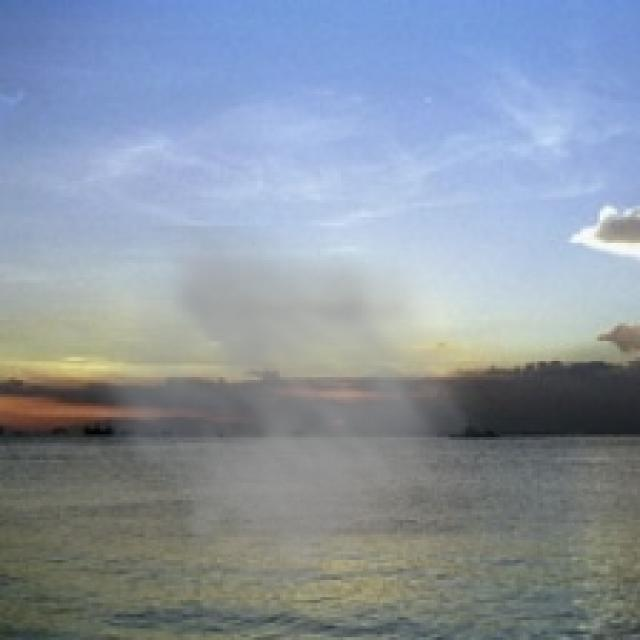smoke: (77, 226, 494, 631)
